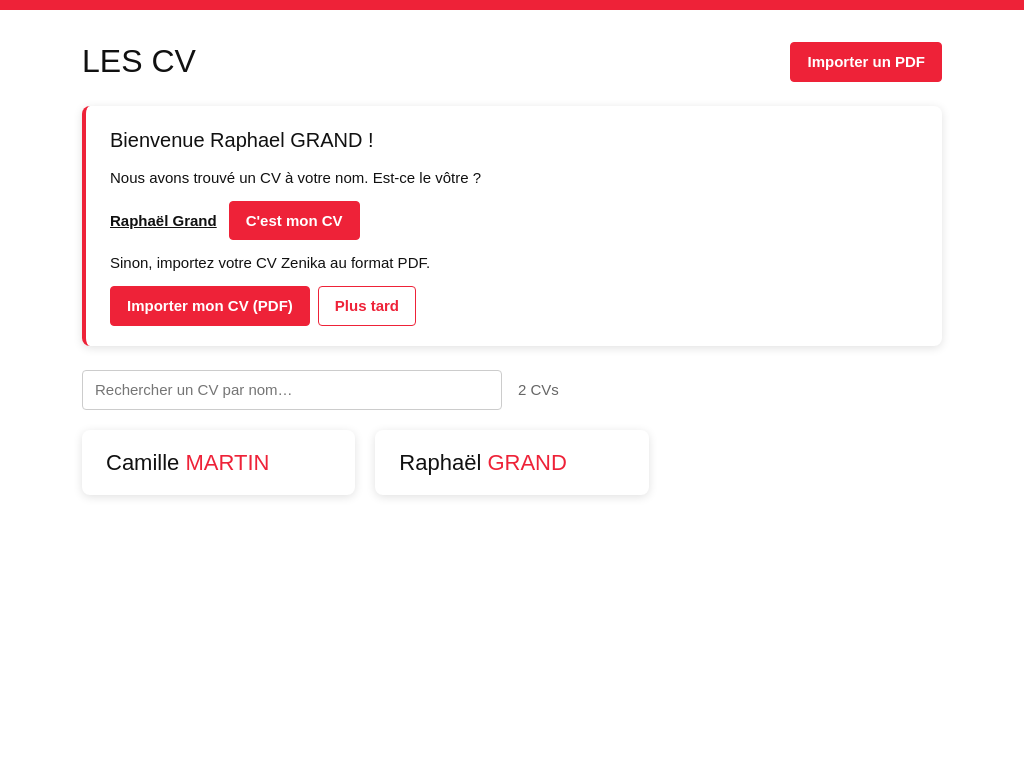
Test case: HomeView welcome › explains why the CV could not be claimed
Click the button "C'est mon CV" at [294, 220], box [229,200,360,240]
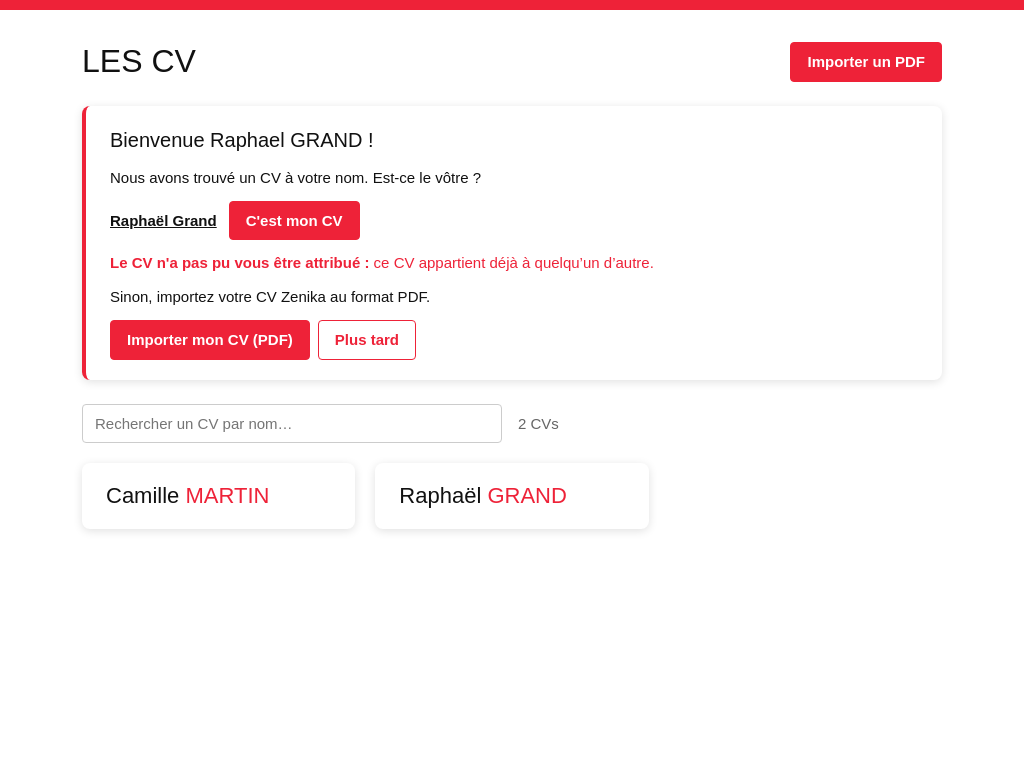
Expected: the message shows "ce CV appartient déjà à quelqu’un d’autre.", [370,254,654,271]
